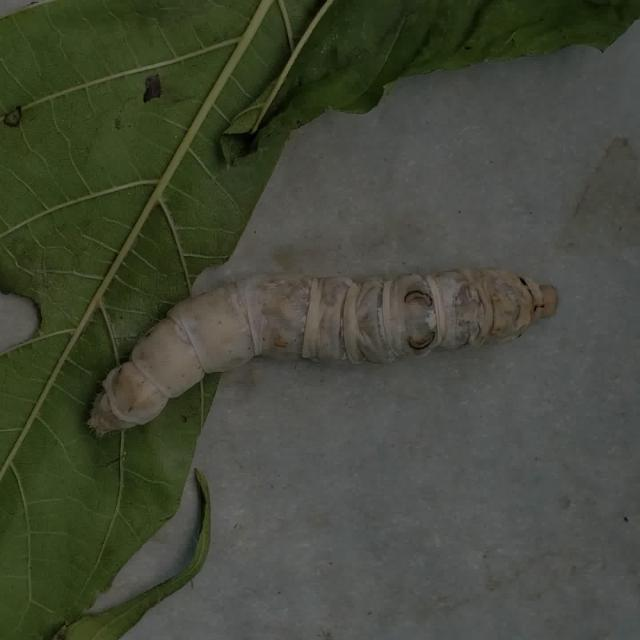Grasserie: (68, 230, 584, 463)
